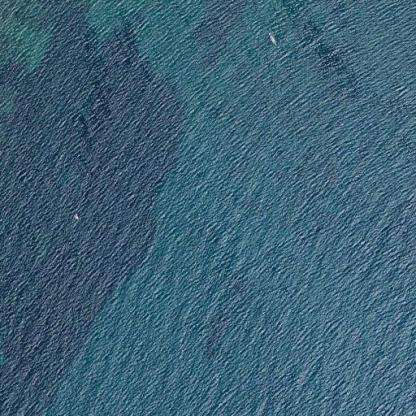ship: (262, 27, 280, 48), (69, 209, 82, 222)
